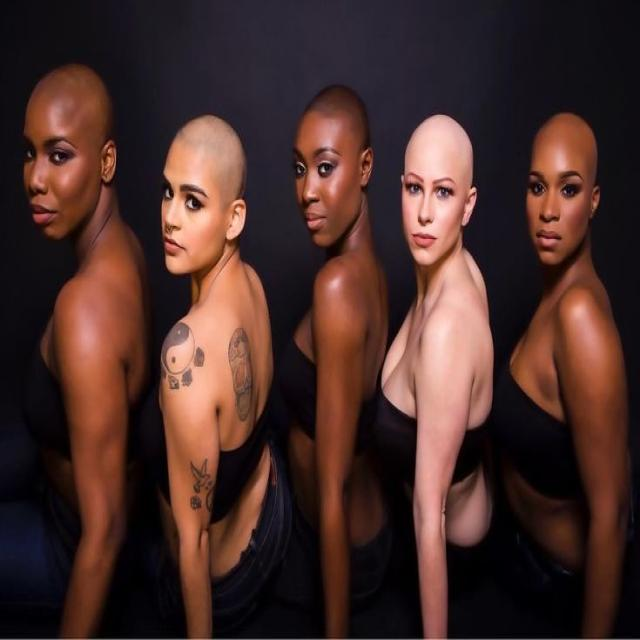Nonhelmet: (15, 45, 128, 244), (388, 102, 486, 279), (158, 102, 247, 282), (514, 98, 604, 276), (289, 82, 375, 251)
